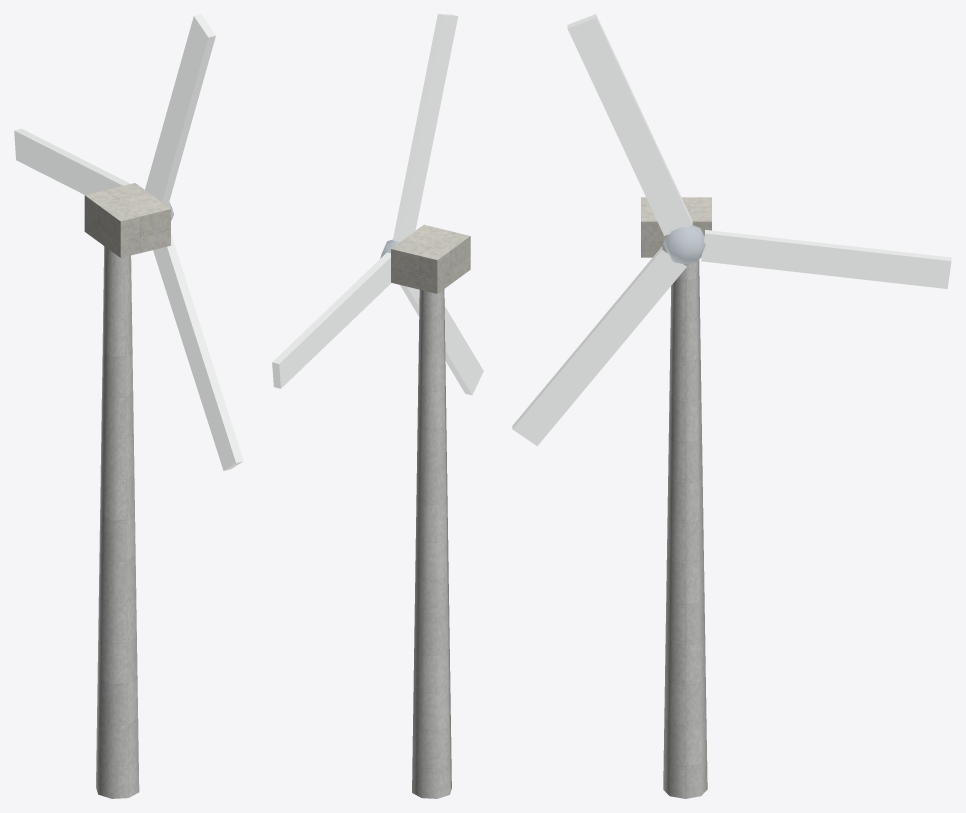
The model's file is prop_wind_turbine.glb.
3 renders of one model, left to right at view 1: azimuth 30°, elevation 25°; view 2: azimuth 150°, elevation 25°; view 3: azimuth 270°, elevation 25°, orthographic. The views are drawn at different scales.
Visible parts, largest first — view 1: prop_wind_turbine_LOD0; view 2: prop_wind_turbine_LOD0; view 3: prop_wind_turbine_LOD0.
Part boxes in pixels (left/top/right/bottom): prop_wind_turbine_LOD0: left=14, top=14, right=243, bottom=798; prop_wind_turbine_LOD0: left=272, top=14, right=483, bottom=798; prop_wind_turbine_LOD0: left=512, top=14, right=951, bottom=798.
Size of what is drawn, in the model's own units: 1.9 by 19.66 by 9.9.
2 materials, 2 textured.
